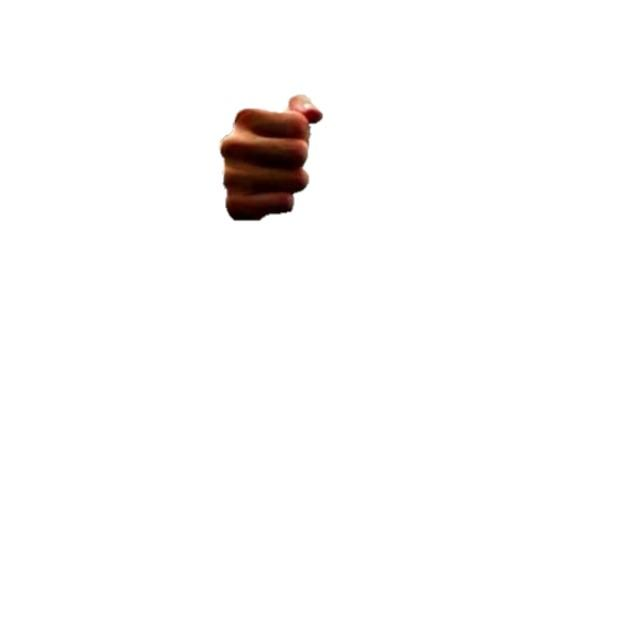gu-: (219, 93, 324, 223)
